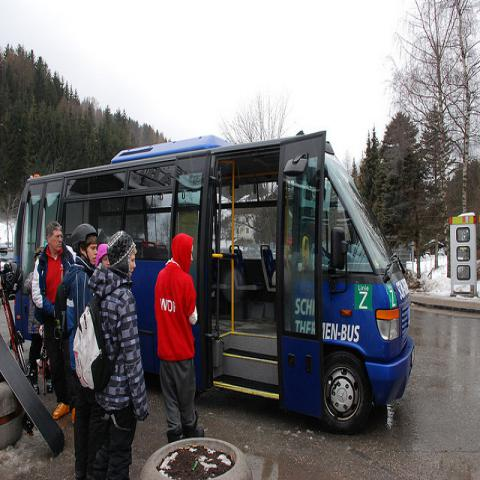bus: (14, 130, 416, 435)
